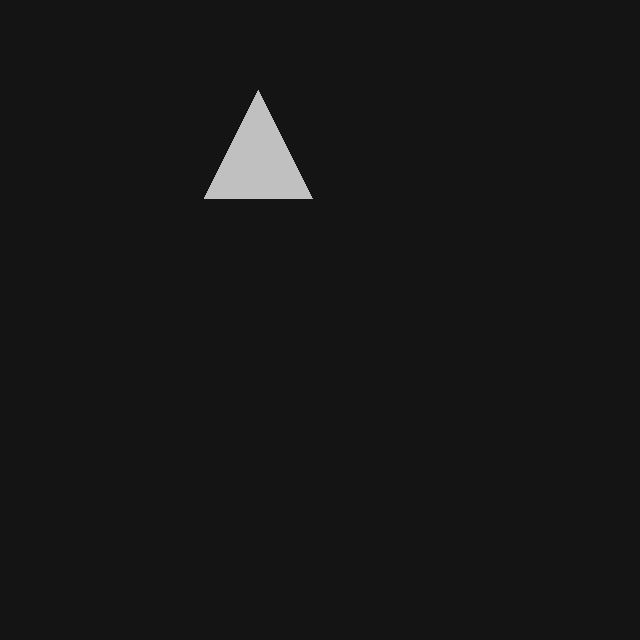triangle: (204, 90, 312, 198)
